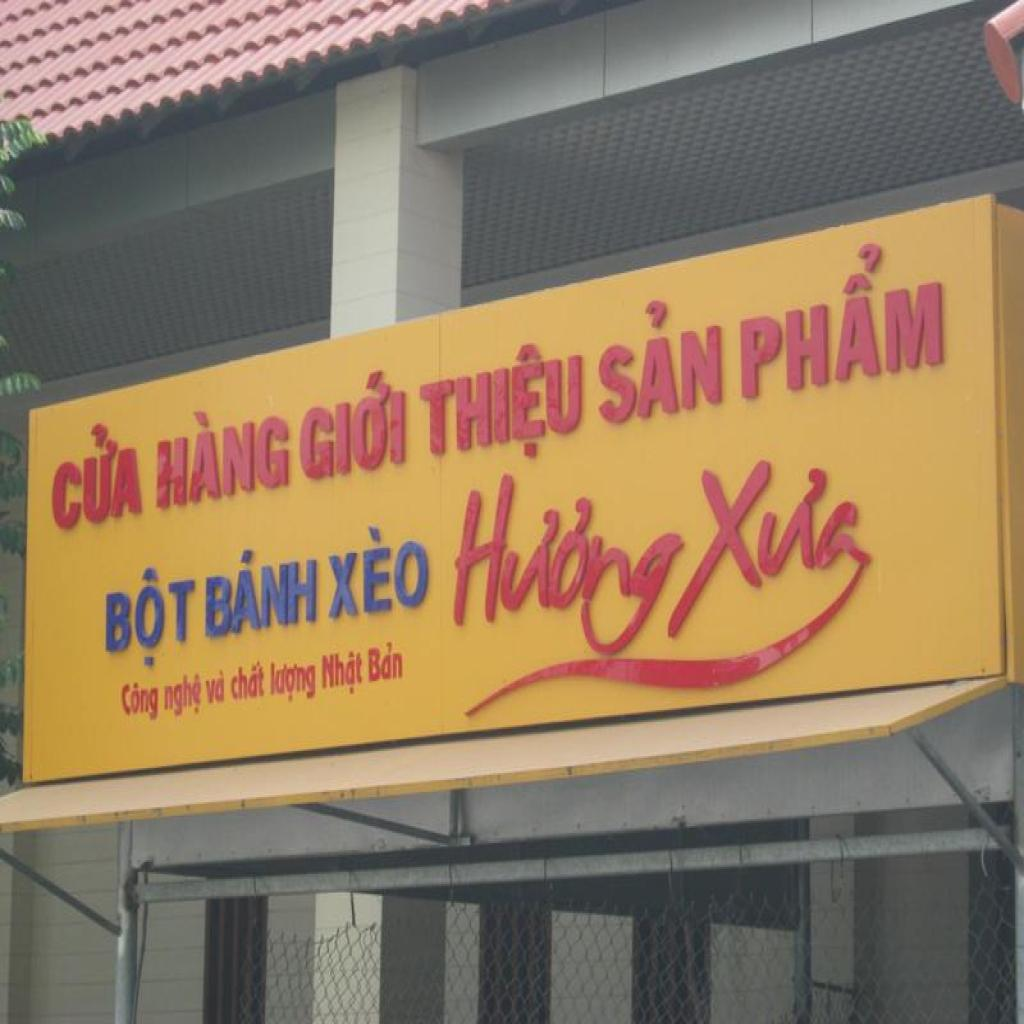text: (444, 438, 710, 672), (738, 227, 946, 404), (417, 333, 584, 474), (597, 287, 723, 432), (156, 392, 291, 514), (298, 360, 407, 488), (204, 536, 320, 642), (50, 415, 145, 539), (102, 556, 198, 674), (325, 517, 431, 623), (320, 645, 366, 702), (269, 654, 317, 708), (162, 669, 204, 722), (118, 678, 161, 728), (366, 638, 405, 686), (229, 656, 266, 706), (203, 668, 228, 708)
